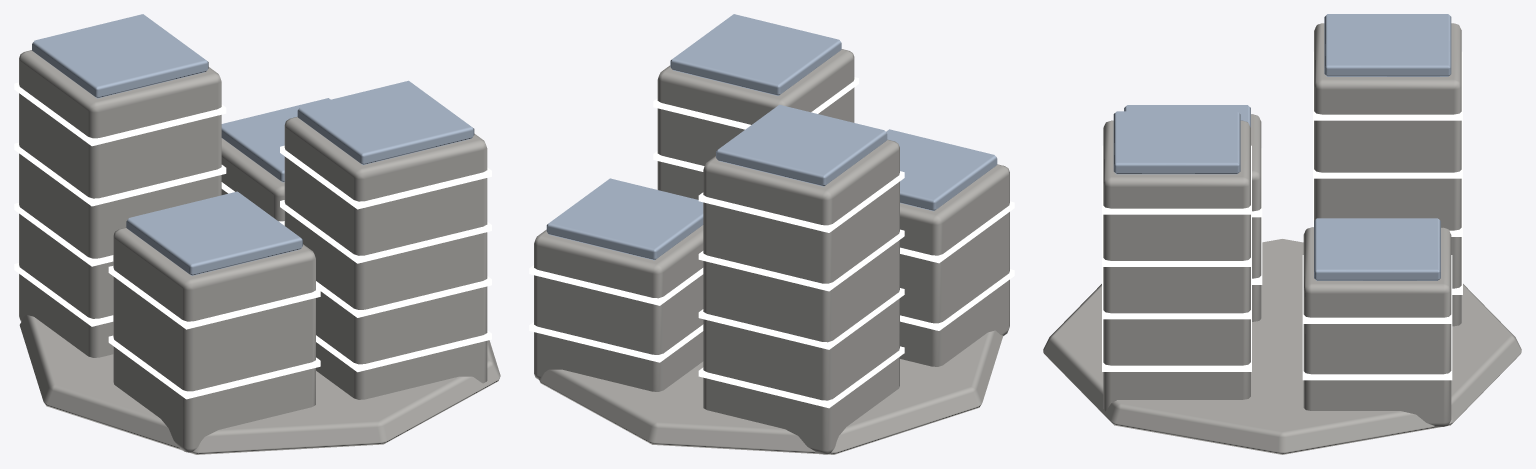
The model's file is housing.glb.
3 renders of one model, left to right at view 1: azimuth 30°, elevation 25°; view 2: azimuth 150°, elevation 25°; view 3: azimuth 270°, elevation 25°, orthographic. The views are drawn at different scales.
Parts seen in each view (by area): view 1: housing; view 2: housing; view 3: housing.
Boxes of the visible parts, left/top/right/bottom form: housing: left=14, top=14, right=500, bottom=454; housing: left=529, top=14, right=1014, bottom=454; housing: left=1043, top=14, right=1521, bottom=454.
Bounding box in the file's own units: 0.907 × 0.575 × 0.907.
